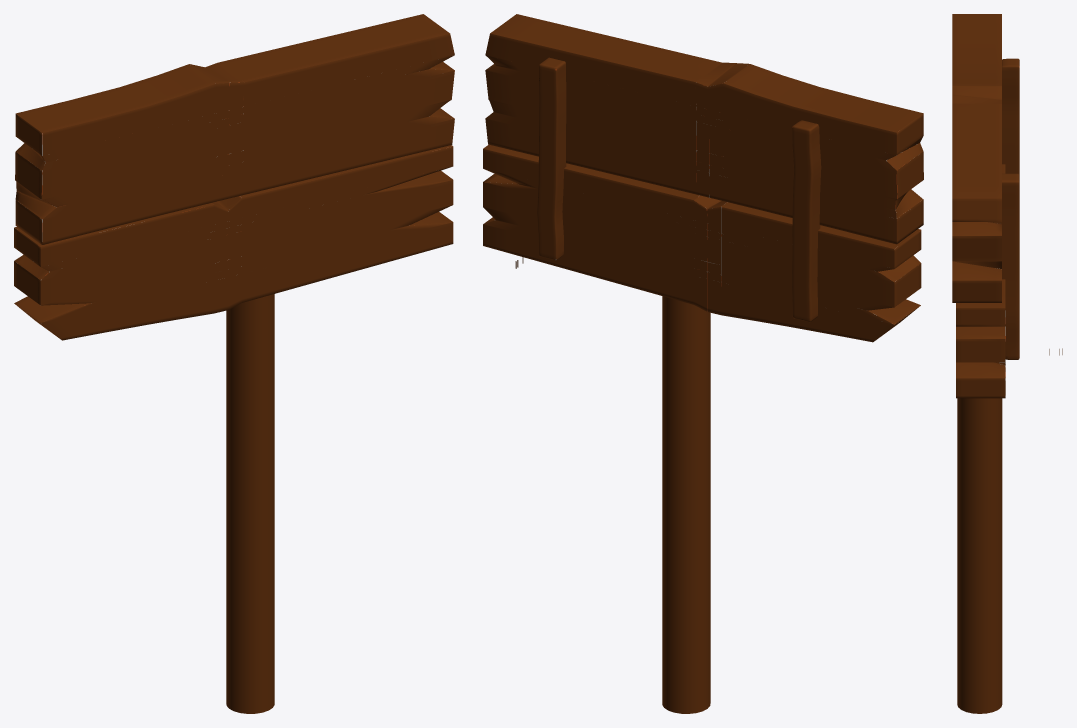
The model's file is sign.gltf.
3 views of the same model, side by side, from view 1: azimuth 30°, elevation 25°; view 2: azimuth 150°, elevation 25°; view 3: azimuth 270°, elevation 25° (orthographic). The views are drawn at different scales.
Visible parts, largest first — view 1: pCube11; view 2: pCube11; view 3: pCube11.
Part boxes in pixels (x1=…): pCube11: x1=14, y1=14, x2=454, y2=713; pCube11: x1=483, y1=14, x2=923, y2=713; pCube11: x1=952, y1=14, x2=1062, y2=713.
Size of the model in its own units: 6.71 by 9.96 by 1.67.
